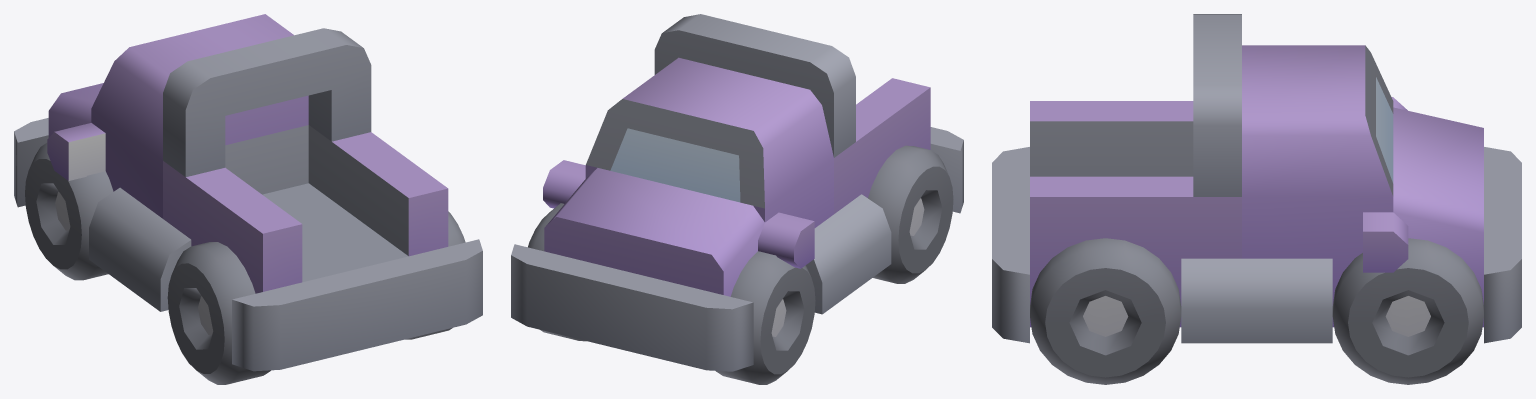
File: toy_car_b.glb
3 renders of one model, left to right at view 1: azimuth 30°, elevation 25°; view 2: azimuth 150°, elevation 25°; view 3: azimuth 270°, elevation 25°, orthographic. The views are drawn at different scales.
Parts seen in each view (by area): view 1: toy_car_b; view 2: toy_car_b; view 3: toy_car_b.
Part boxes in pixels (x1,y1,x2,y2): toy_car_b: (14, 14, 482, 384); toy_car_b: (511, 14, 963, 384); toy_car_b: (992, 14, 1521, 384).
Size of the model in its own units: 10.8 by 10.39 by 18.
